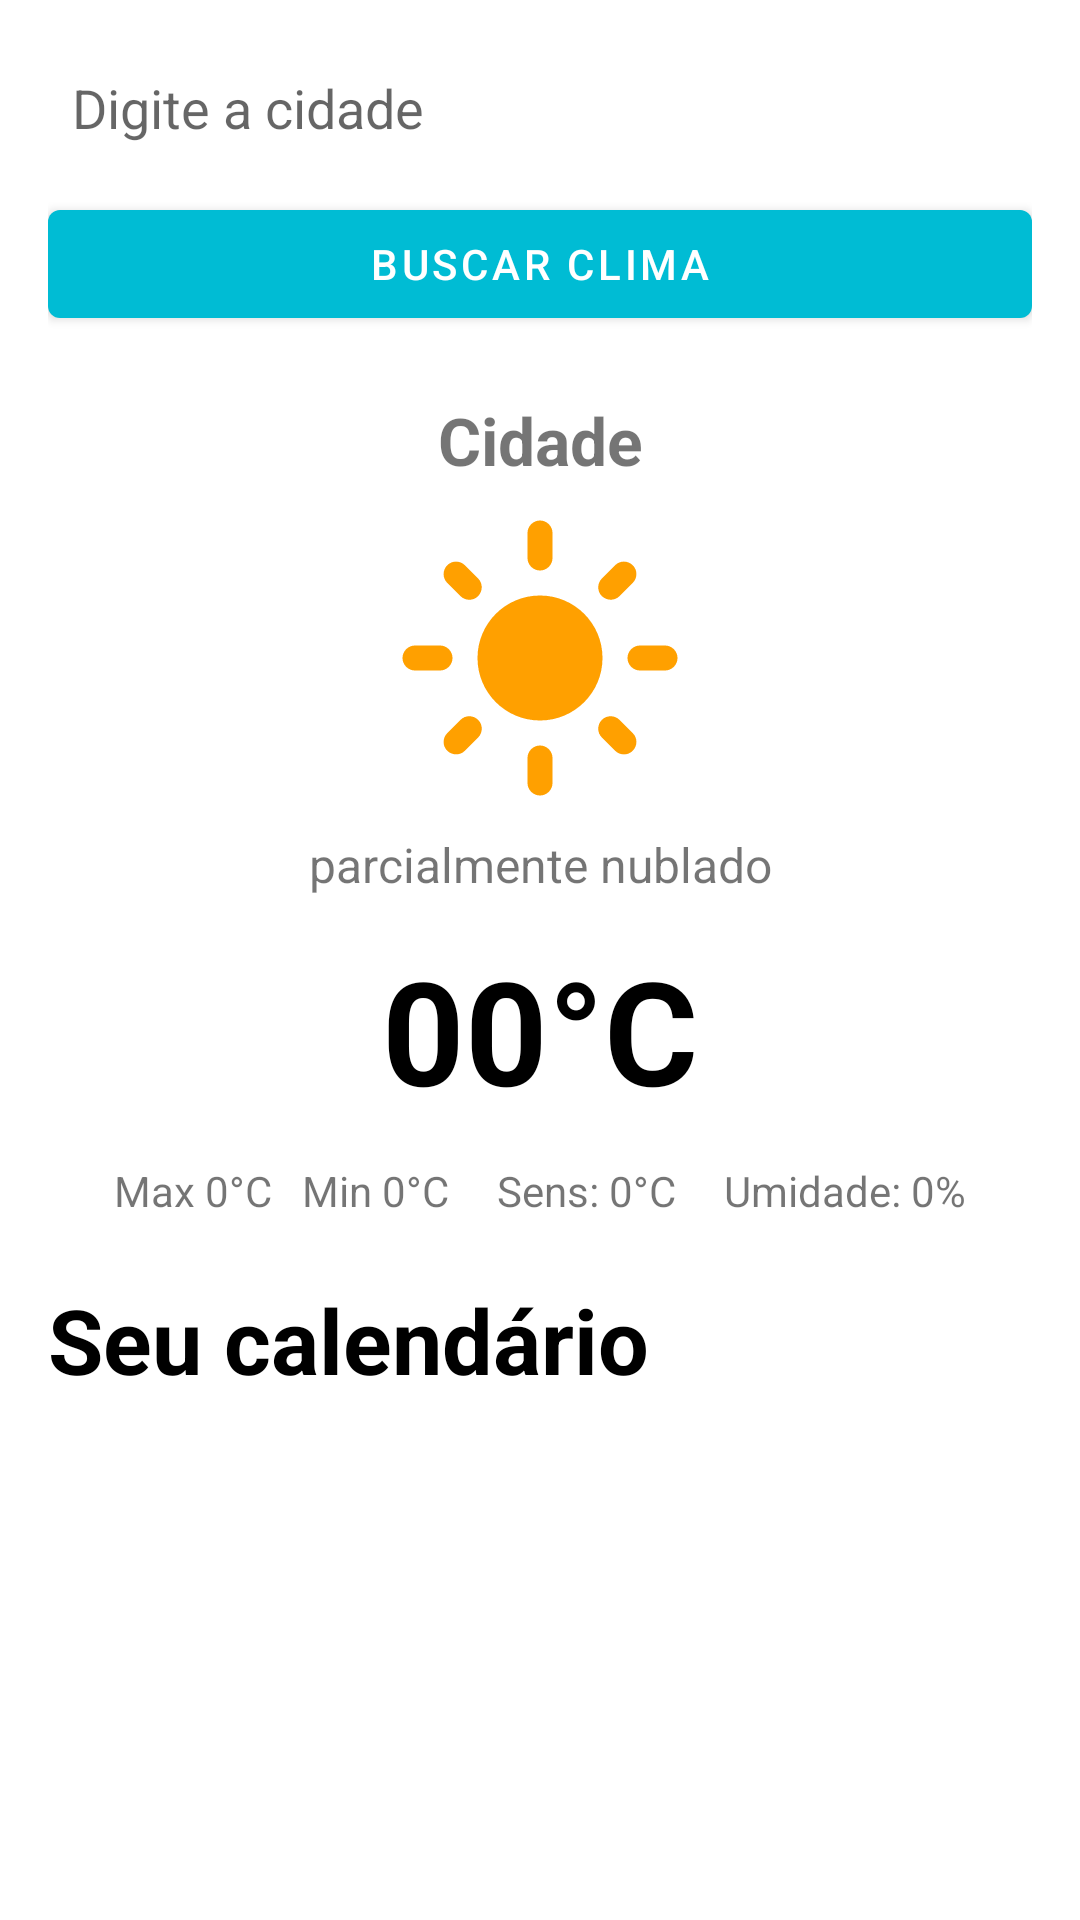

Icons on this 1080*1920 Android screen, each with the point to tap as (x,y):
sunny: (540,658)
